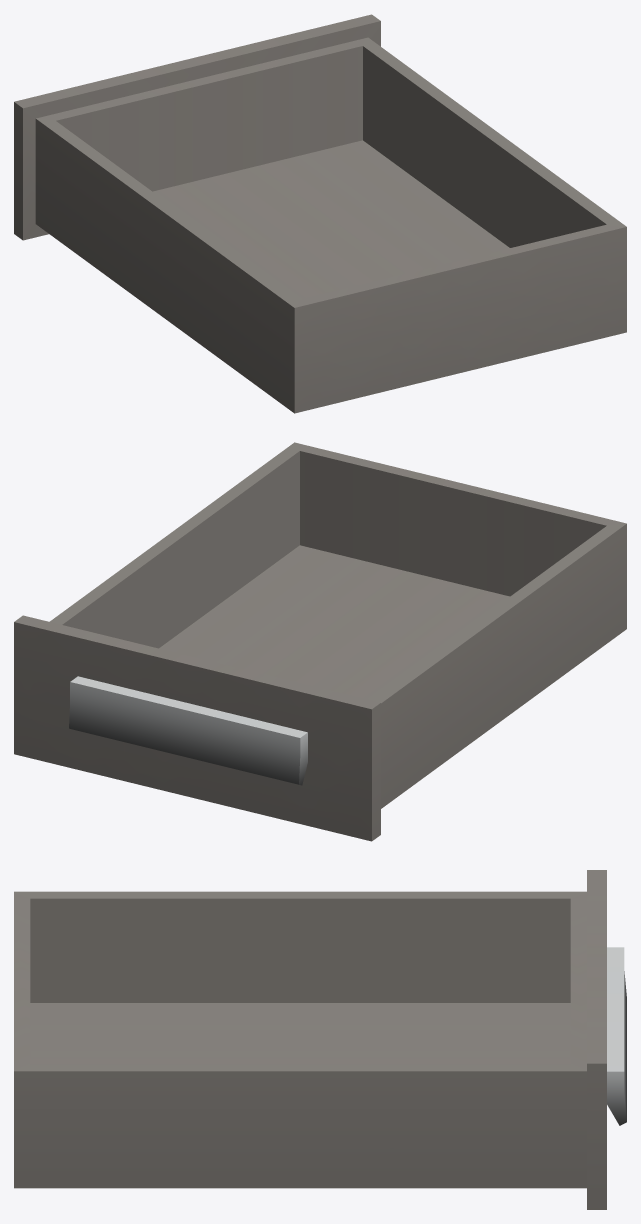
The model's file is Drawer_OfficeDesk3_Top.fbx.
3 renders of one model, top to bottom at view 1: azimuth 30°, elevation 25°; view 2: azimuth 150°, elevation 25°; view 3: azimuth 270°, elevation 25°, orthographic. The views are drawn at different scales.
Parts seen in each view (by area): view 1: Drawer_OfficeDesk3_Top; view 2: Drawer_OfficeDesk3_Top; view 3: Drawer_OfficeDesk3_Top.
Part boxes in pixels (left/top/right/bottom): Drawer_OfficeDesk3_Top: left=14, top=14, right=626, bottom=413; Drawer_OfficeDesk3_Top: left=14, top=442, right=626, bottom=841; Drawer_OfficeDesk3_Top: left=14, top=870, right=626, bottom=1209.
Bounding box in the file's own units: 44.19 × 15.6 × 59.19.
